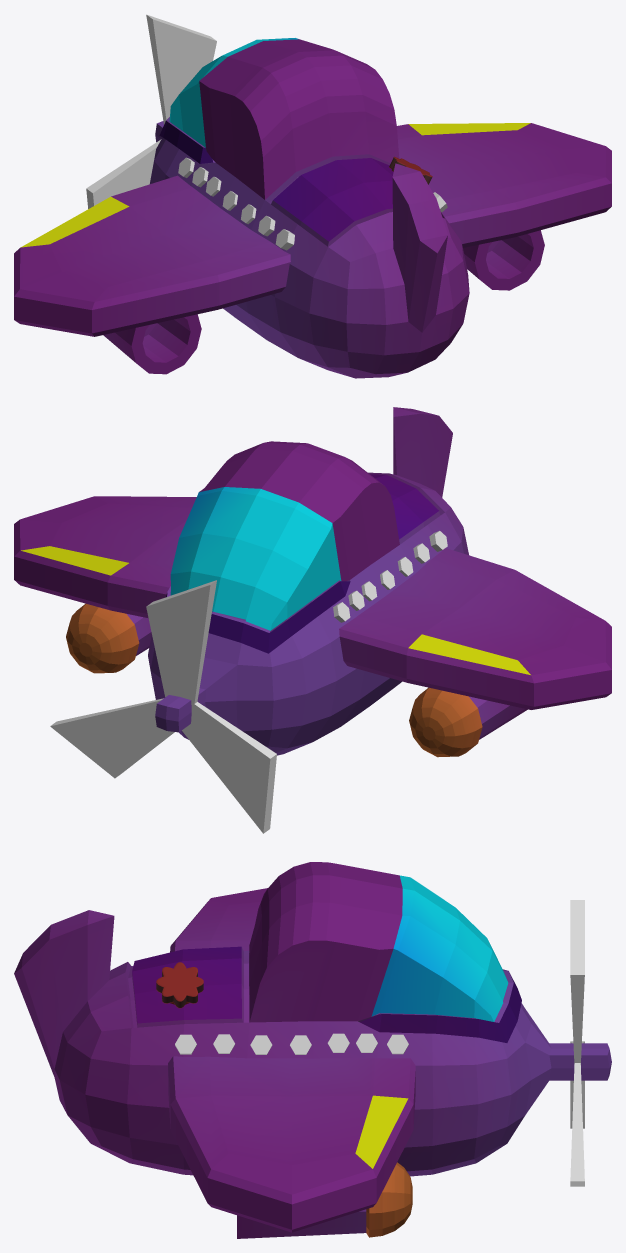
Rendered from самолет 3.fbx.
3 views of the same model, one above another, from view 1: azimuth 30°, elevation 25°; view 2: azimuth 150°, elevation 25°; view 3: azimuth 270°, elevation 25° (orthographic). The views are drawn at different scales.
Parts seen in each view (by area): view 1: Cube.006, Cube.007, Cylinder.008, Cube.008, Cylinder.006; view 2: Cube.006, Cube.007, Cube.008, Cylinder.008, Cylinder.006; view 3: Cube.006, Cube.007, Cylinder.008, Cube.008, Cylinder.006, Cylinder.005.
Boxes of the visible parts, x1,y1,x2,y2 form: Cube.006: (150,38,469,378); Cube.007: (14,123,611,336); Cylinder.008: (103,230,544,374); Cube.008: (86,14,216,208); Cylinder.006: (178,157,447,250); Cube.006: (148,407,468,755); Cube.007: (14,496,611,709); Cube.008: (50,580,276,833); Cylinder.008: (66,603,527,757); Cylinder.006: (333,531,447,622); Cube.006: (14,862,611,1176); Cube.007: (168,888,415,1232); Cylinder.008: (237,1162,412,1238); Cube.008: (570,900,584,1186); Cylinder.006: (175,1033,408,1054); Cylinder.005: (156,962,203,1008).
Bounding box in the file's own units: 592 × 261 × 472.
